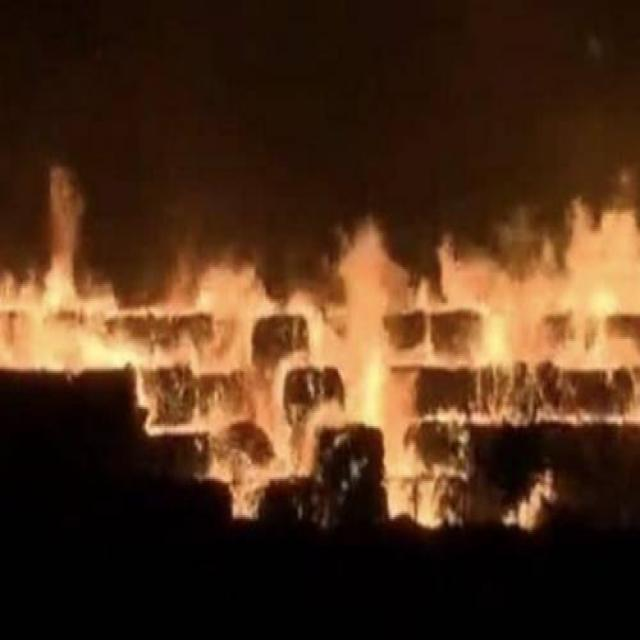fire: (9, 252, 630, 532)
